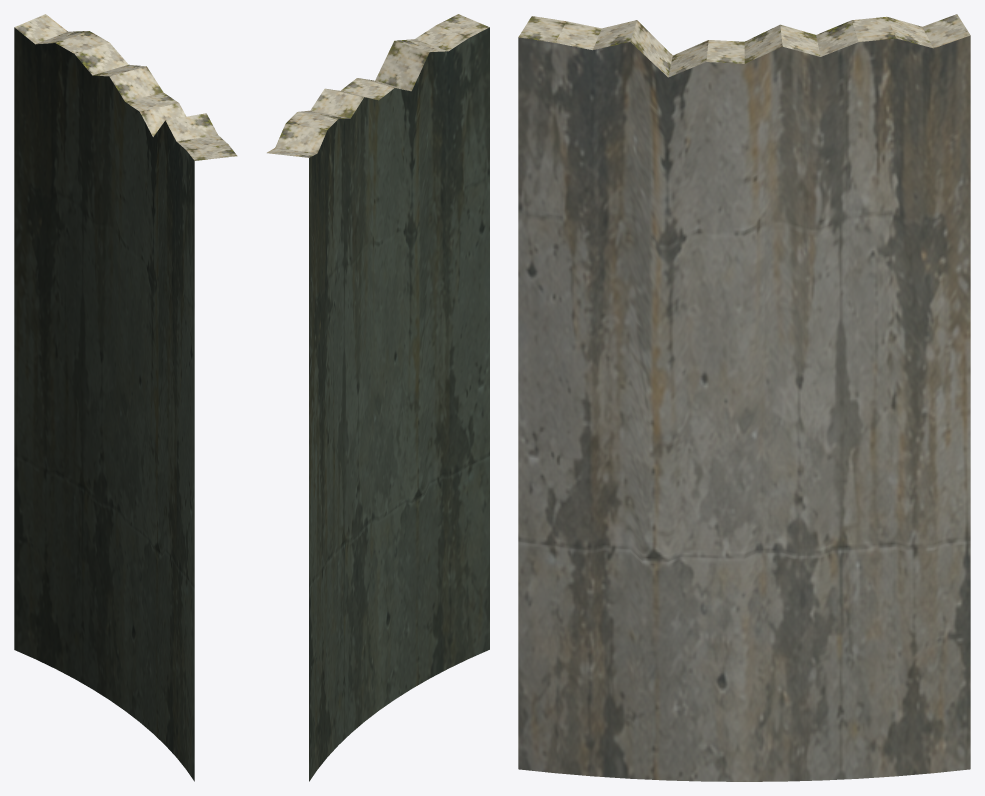
File: Tank_Arc_B.glb
3 renders of one model, left to right at view 1: azimuth 30°, elevation 25°; view 2: azimuth 150°, elevation 25°; view 3: azimuth 270°, elevation 25°, orthographic. The views are drawn at different scales.
Parts seen in each view (by area): view 1: Tank_Arc_B; view 2: Tank_Arc_B; view 3: Tank_Arc_B.
Part boxes in pixels (x1=…): Tank_Arc_B: x1=14, y1=14, x2=237, y2=781; Tank_Arc_B: x1=267, y1=14, x2=489, y2=781; Tank_Arc_B: x1=518, y1=14, x2=970, y2=781.
Size of the model in its own units: 0.6442 by 6.52 by 3.62.
Materials: 1 (1 with a texture image).
